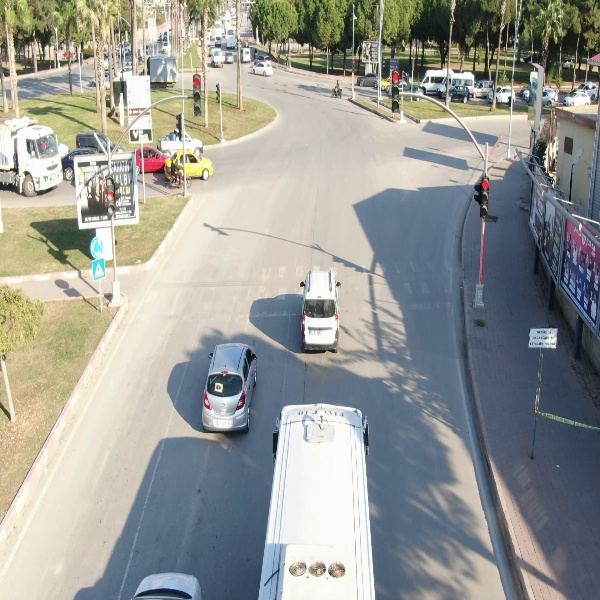car: (198, 340, 260, 439), (299, 267, 343, 354), (486, 85, 518, 107), (443, 84, 474, 104), (563, 90, 591, 108), (250, 59, 274, 77), (239, 45, 253, 64)
